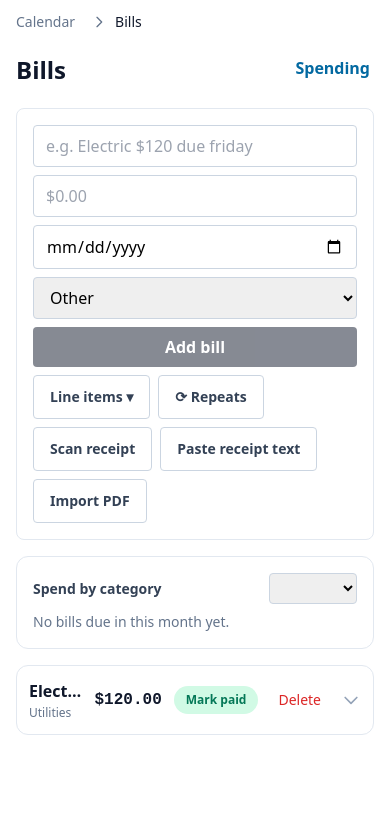
Scenario: line items editor (#031) › badges a label from the user history vs the global table
Click the button named "Show details for Electric". click: {"x": 351, "y": 700}
box: [341,678,361,722]
(page scrolled)
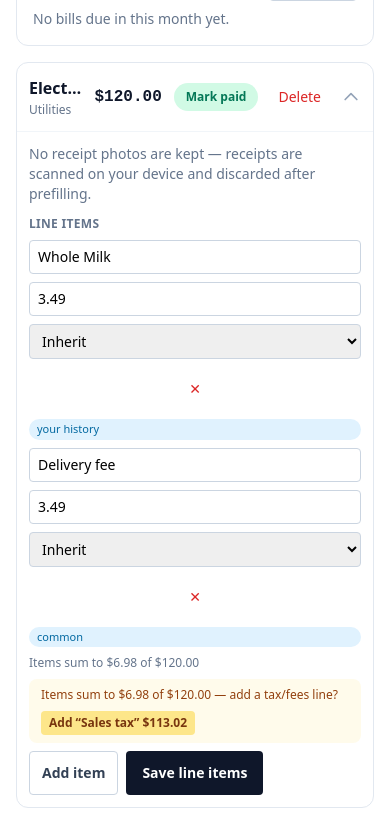
Check: the text "your history" is shown, box [29,419,361,440]
Check: the text "common" is shown, box [29,626,361,647]
